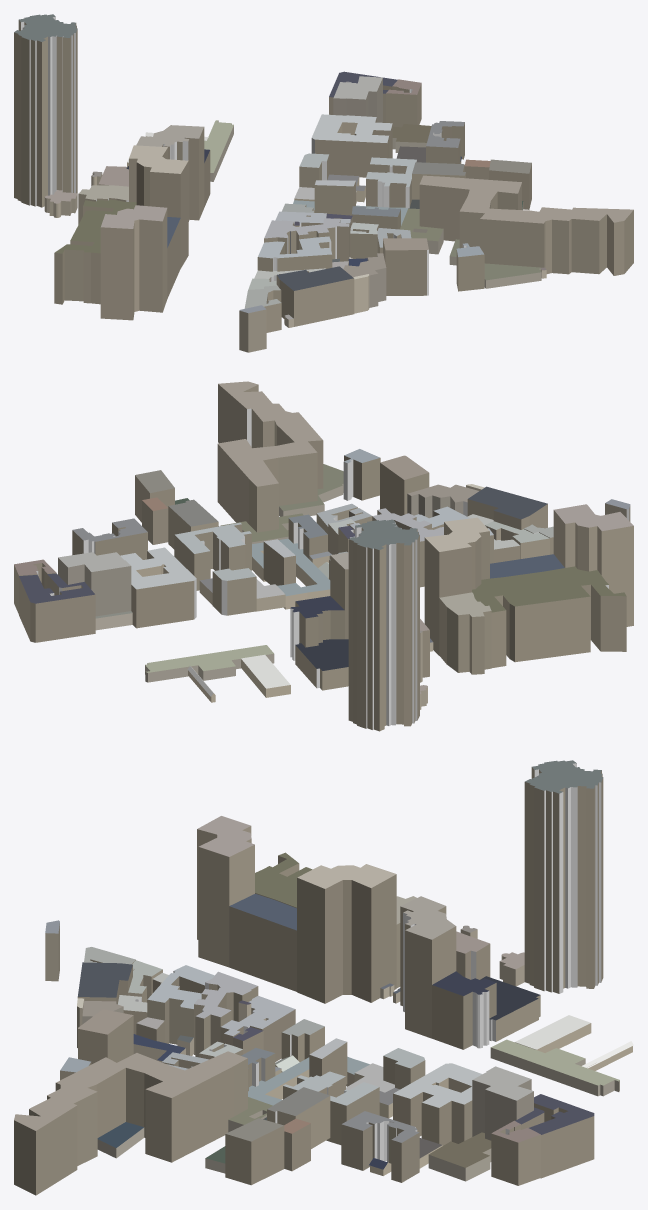
3 renders of one model, top to bottom at view 1: azimuth 30°, elevation 25°; view 2: azimuth 150°, elevation 25°; view 3: azimuth 270°, elevation 25°, orthographic. The views are drawn at different scales.
Visible parts, largest first — view 1: tuile; view 2: tuile; view 3: tuile.
Part boxes in pixels (x1,y1,x2,y2): tuile: [14, 14, 633, 352]; tuile: [14, 381, 633, 731]; tuile: [14, 760, 633, 1195].
Bounding box in the file's own units: 295 × 99.55 × 274.
